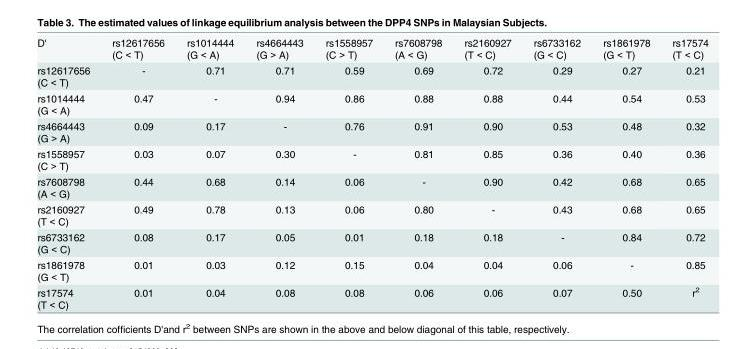table: (36, 36, 707, 310)
table column: (100, 36, 174, 310), (174, 36, 244, 310), (313, 36, 383, 310), (521, 36, 591, 310), (244, 36, 313, 310), (383, 36, 452, 310), (452, 36, 521, 310), (591, 36, 660, 310), (36, 36, 100, 310), (660, 36, 707, 310)
table row: (36, 89, 707, 117), (36, 117, 707, 145), (36, 145, 707, 173), (36, 173, 707, 201), (36, 228, 707, 256), (36, 62, 707, 89), (36, 201, 707, 228), (36, 256, 707, 283), (36, 283, 707, 310), (36, 36, 707, 62)
